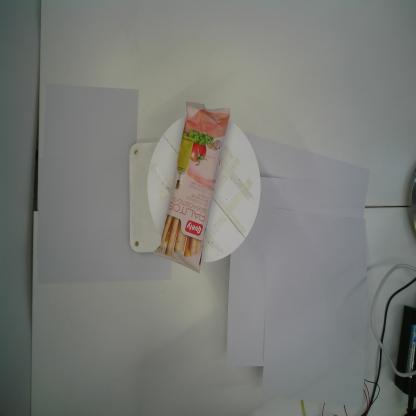Dessert: (154, 98, 232, 275)
